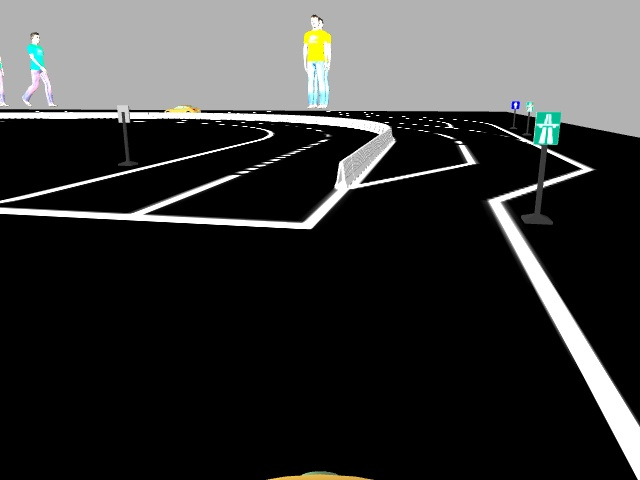HighwayEntrance: (532, 109, 560, 146)
